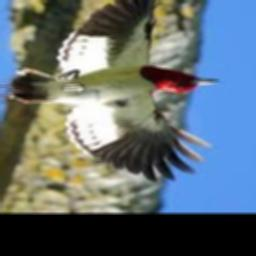Woodpecker: (0, 0, 219, 181)
